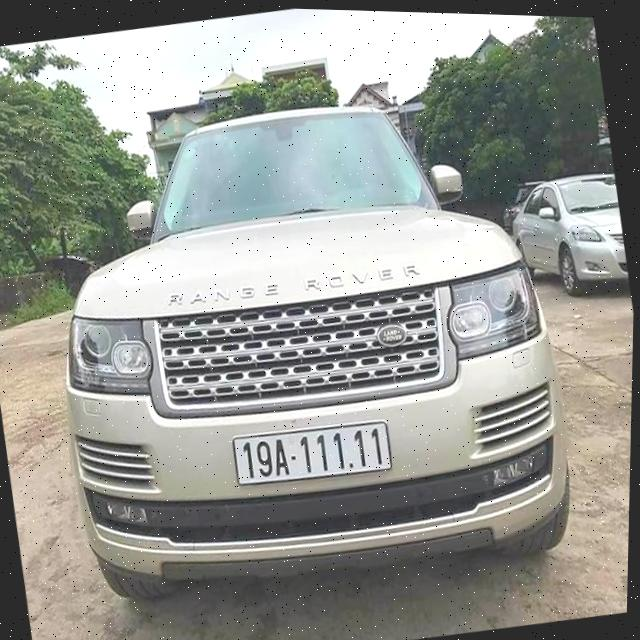car: (13, 56, 599, 636), (501, 162, 635, 319)
plate: (225, 407, 402, 501)
